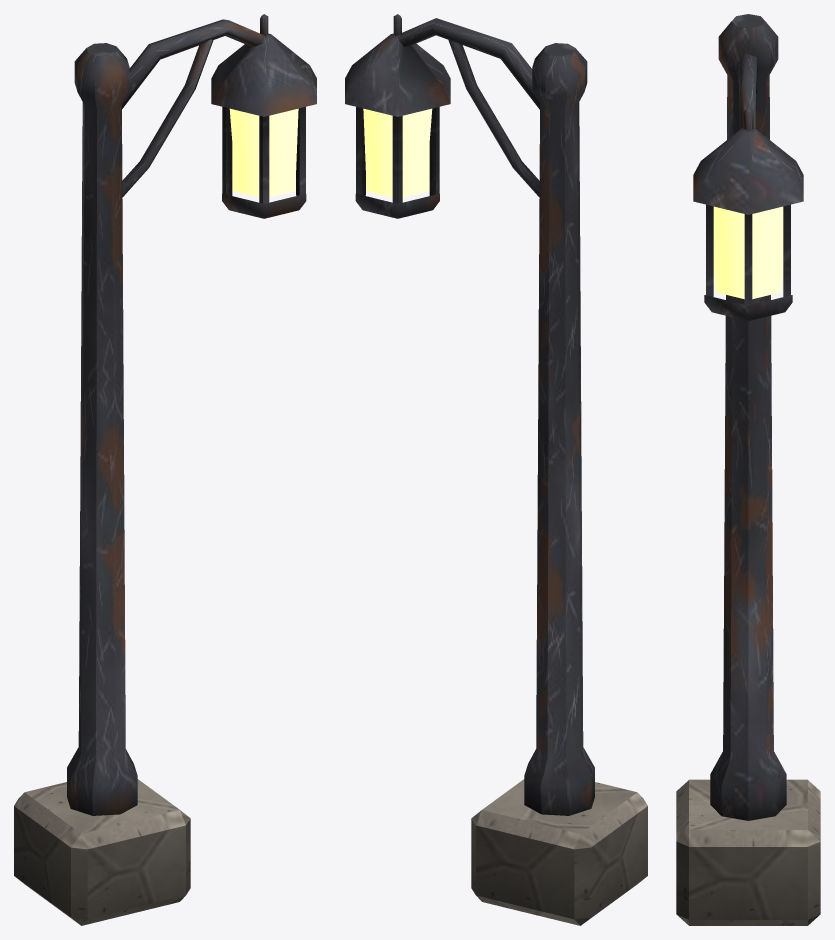
File: town_lamp_post.glb
3 renders of one model, left to right at view 1: azimuth 30°, elevation 25°; view 2: azimuth 150°, elevation 25°; view 3: azimuth 270°, elevation 25°, orthographic. The views are drawn at different scales.
Visible parts, largest first — view 1: town_lamp_post; view 2: town_lamp_post; view 3: town_lamp_post.
Boxes of the visible parts, x1,y1,x2,y2 form: town_lamp_post: [14, 14, 316, 925]; town_lamp_post: [345, 14, 647, 925]; town_lamp_post: [676, 14, 820, 925].
Bounding box in the file's own units: 0.78 × 2.29 × 0.34.
Materials: 3 (2 with a texture image).
